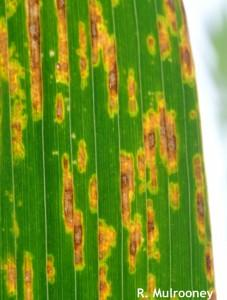Corn Gray leaf spot: (1, 1, 218, 299)
